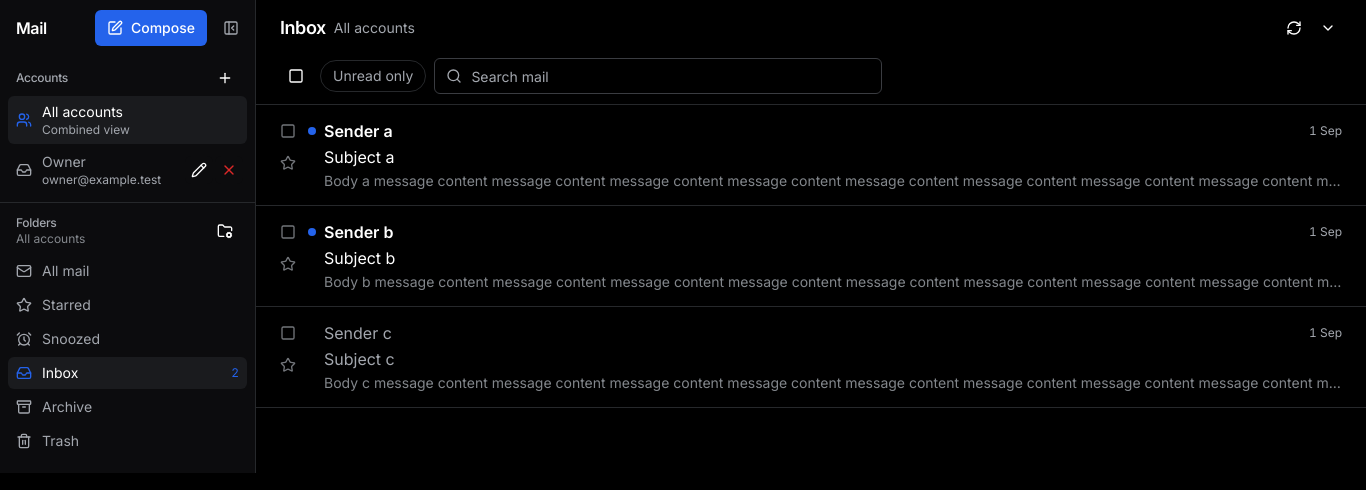
Test: mail actions look done at once while sync state stays visible › keeps a star made during a pending trash when the trash is rolled back
Expected: the text "Subject b" is shown, x1=324 y1=248 x2=395 y2=268
Step 1. Click the button named "Select Subject b" → coordinates (288, 232), box x1=272 y1=216 x2=304 y2=248
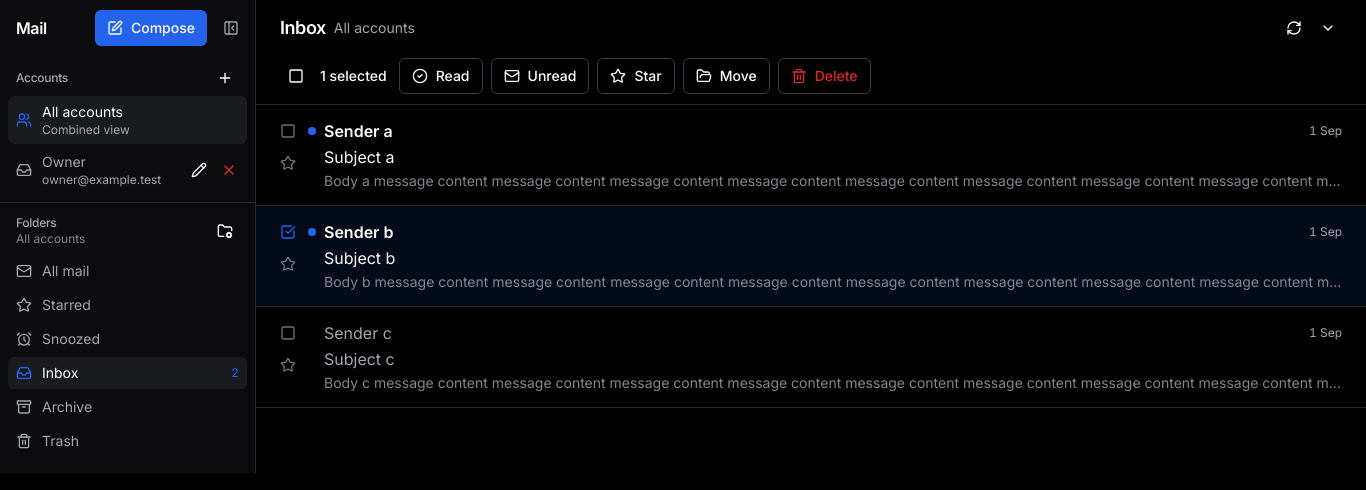
Step 2. Click the button with aria-label "Delete selected" → coordinates (824, 76), box x1=778 y1=58 x2=870 y2=94
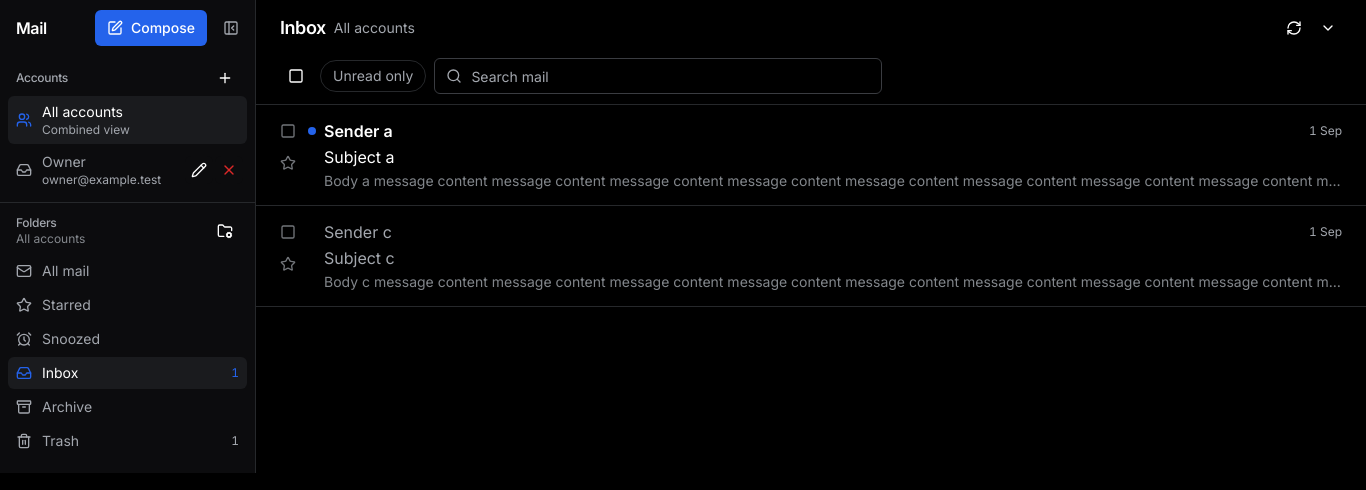
Expected: the button "Subject b" is gone
Step 3. Click the button named "Star Subject a" → coordinates (288, 163), box x1=272 y1=147 x2=304 y2=179
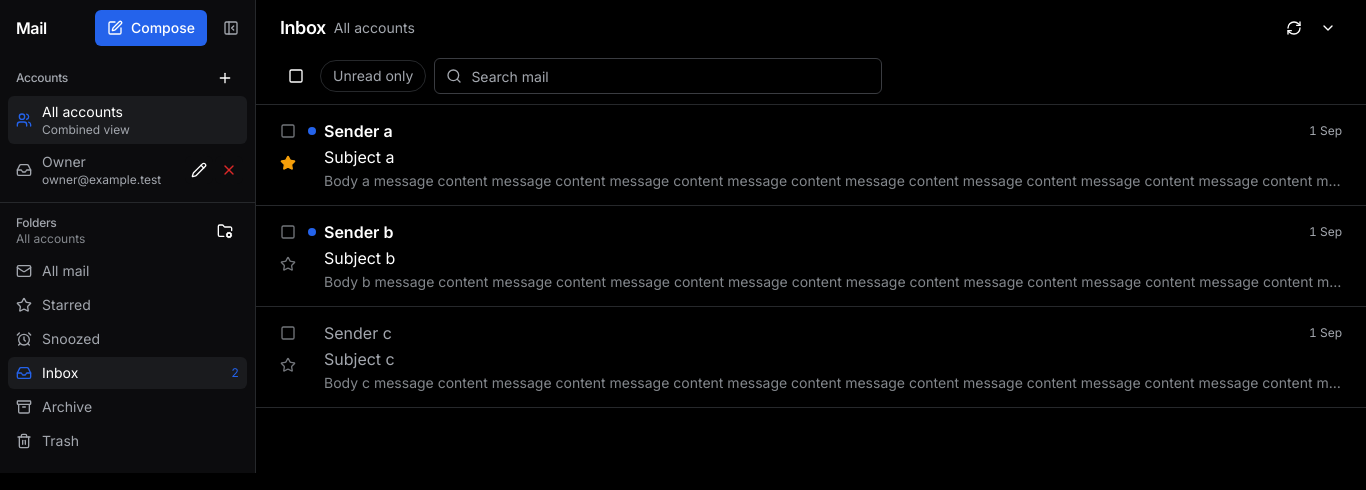
Expected: the button named "Unstar Subject a" is shown, x1=272 y1=147 x2=304 y2=179
